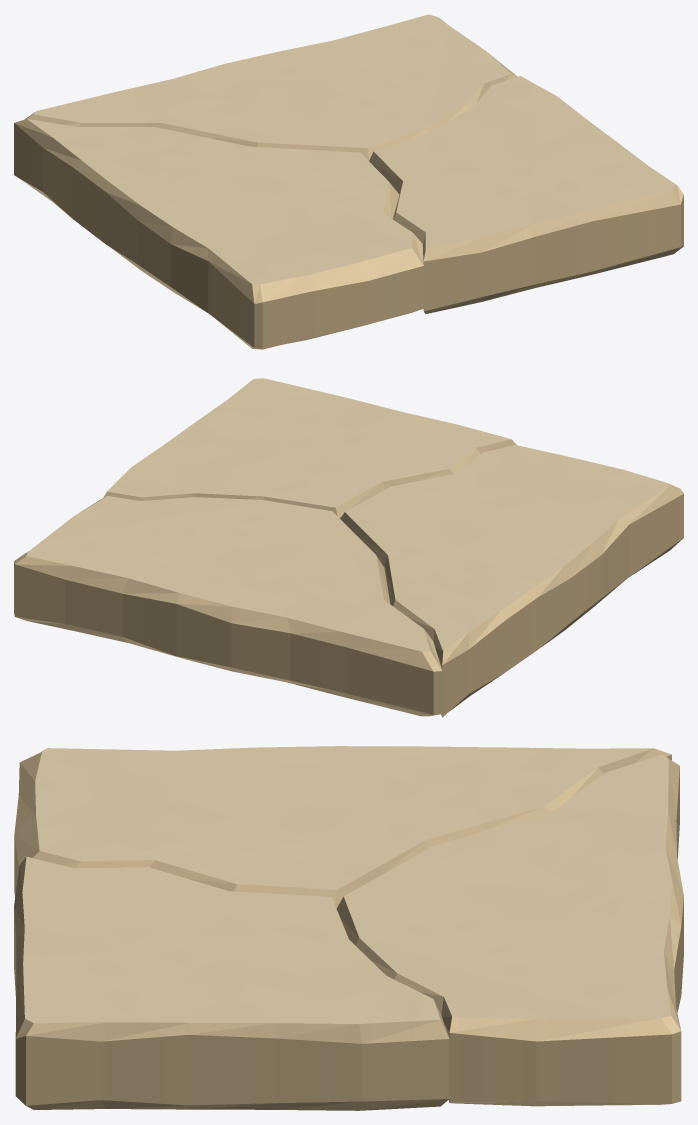
Rendered from tile_a_fragments.glb.
3 renders of one model, top to bottom at view 1: azimuth 30°, elevation 25°; view 2: azimuth 150°, elevation 25°; view 3: azimuth 270°, elevation 25°, orthographic. The views are drawn at different scales.
Parts seen in each view (by area): view 1: fragment_a_03, fragment_a_01, fragment_a_02; view 2: fragment_a_02, fragment_a_03, fragment_a_01; view 3: fragment_a_01, fragment_a_02, fragment_a_03.
Part boxes in pixels (bbox=[...]): fragment_a_03: bbox=[14, 119, 423, 349]; fragment_a_01: bbox=[369, 76, 683, 313]; fragment_a_02: bbox=[25, 14, 517, 160]; fragment_a_02: bbox=[14, 496, 442, 716]; fragment_a_03: bbox=[340, 445, 683, 717]; fragment_a_01: bbox=[103, 378, 516, 518]; fragment_a_01: bbox=[14, 856, 449, 1110]; fragment_a_02: bbox=[336, 754, 683, 1106]; fragment_a_03: bbox=[14, 746, 671, 908].
Bounding box in the file's own units: 2.8 × 0.4 × 2.8.
Materials: 3 (3 with a texture image).
